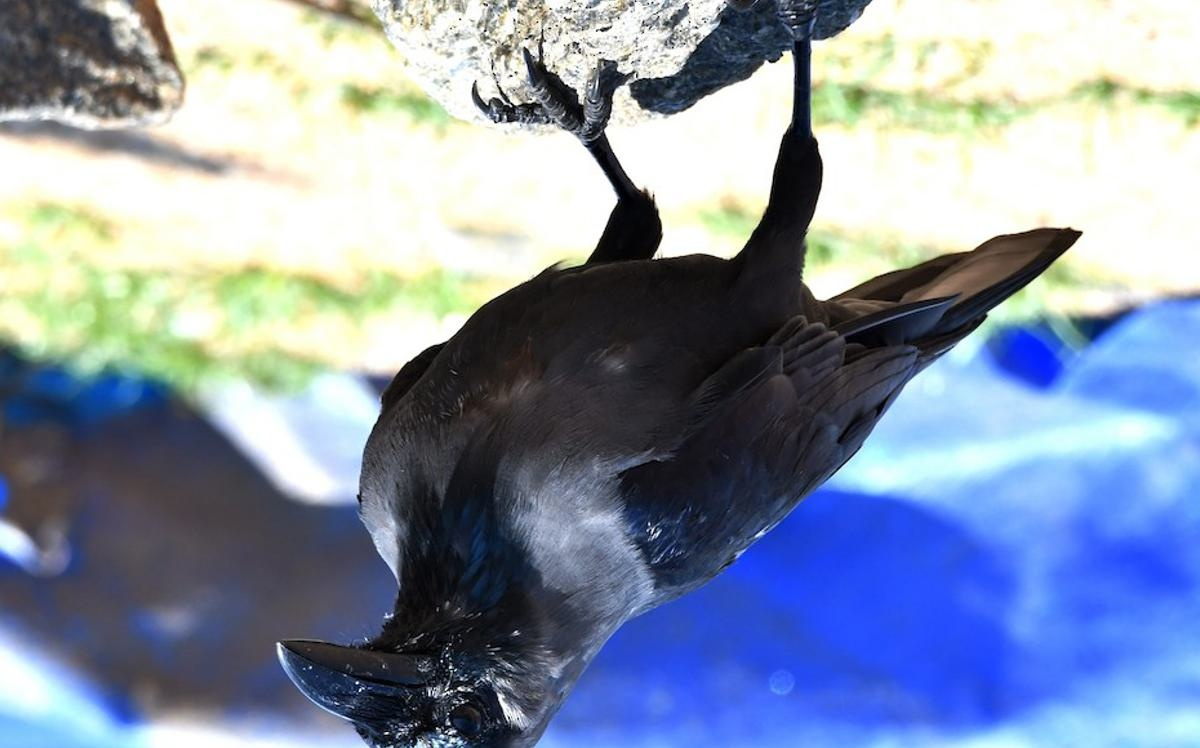crow: (267, 16, 1097, 745)
